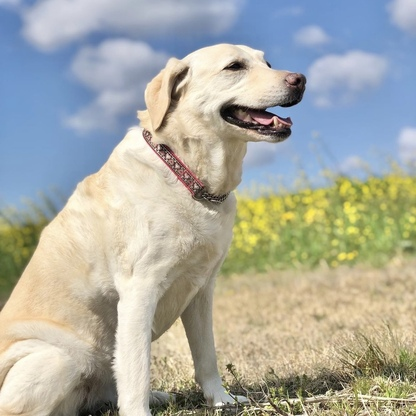labrado: (1, 39, 312, 416)
